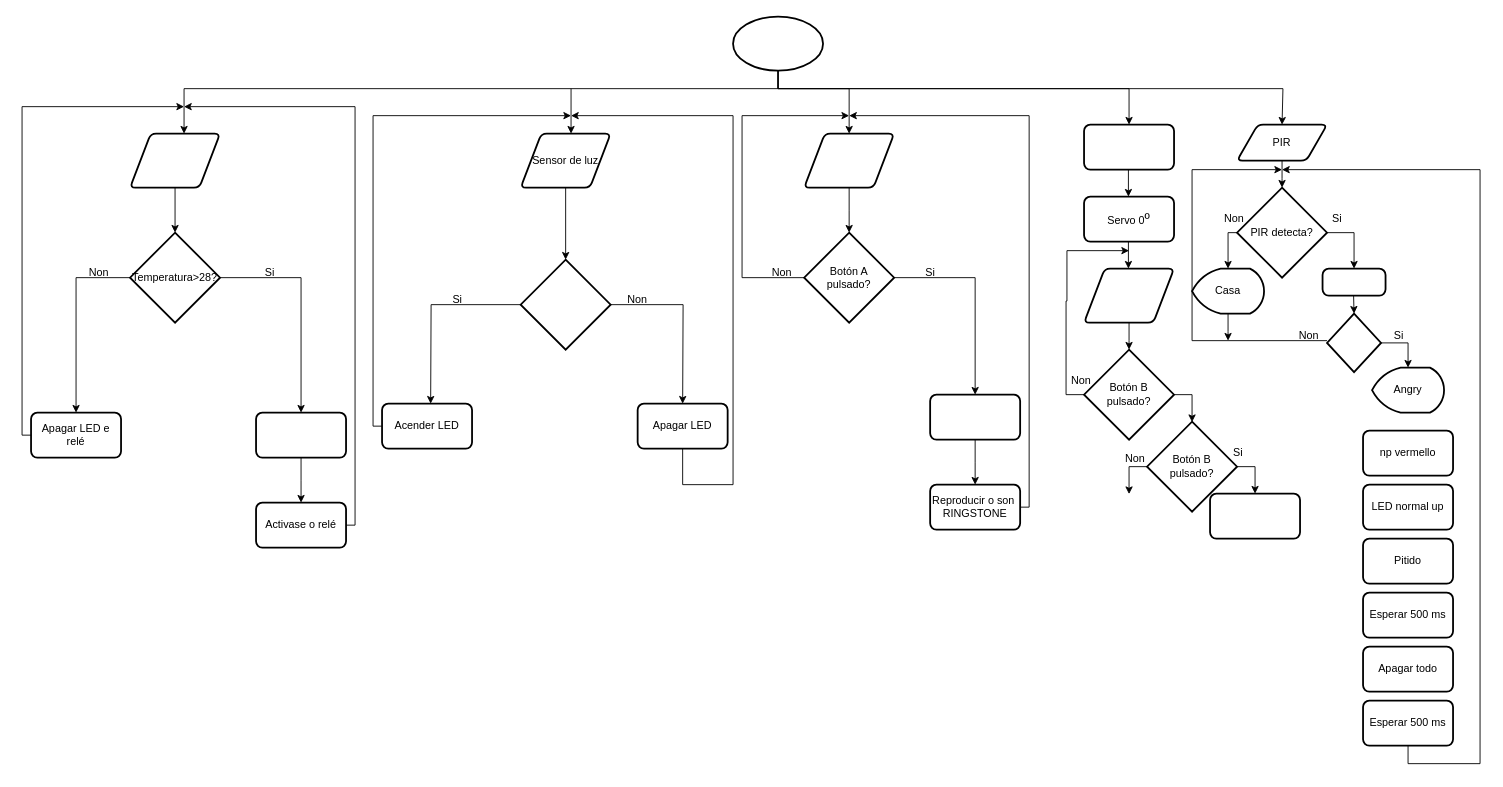
The diagram is 1503 pixels wide and 787 high, and some of its shapes have lost their labels. Each missing label, with the centre of its shape:
Acender LED durante 5 segundos: (x=975, y=416)
Botón A: (x=849, y=160)
Botón B: (x=1128, y=295)
i=5?: (x=1354, y=342)
Inicio: (x=778, y=43)
Luz<700?: (x=565, y=304)
O LED Neopixel se ilumina en vermello: (x=300, y=434)
p=0: (x=1128, y=146)
p=1: (x=1254, y=515)
RINGTONE X2: (x=1353, y=281)
Sensor de temperatura: (x=174, y=160)
